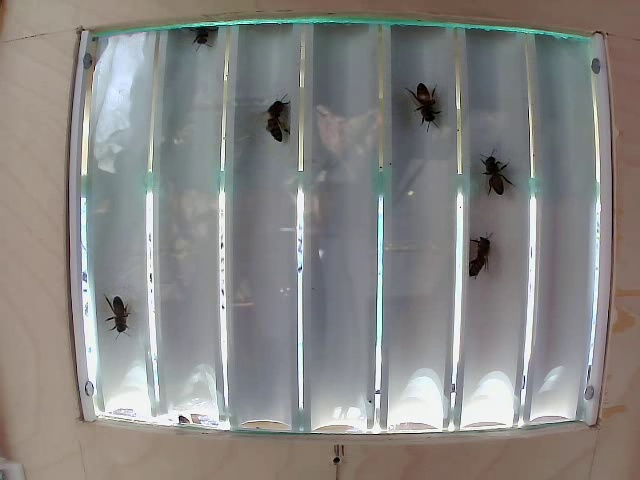bee: (256, 97, 306, 150), (483, 140, 518, 203), (402, 69, 441, 120), (103, 288, 135, 346), (459, 223, 488, 274)
